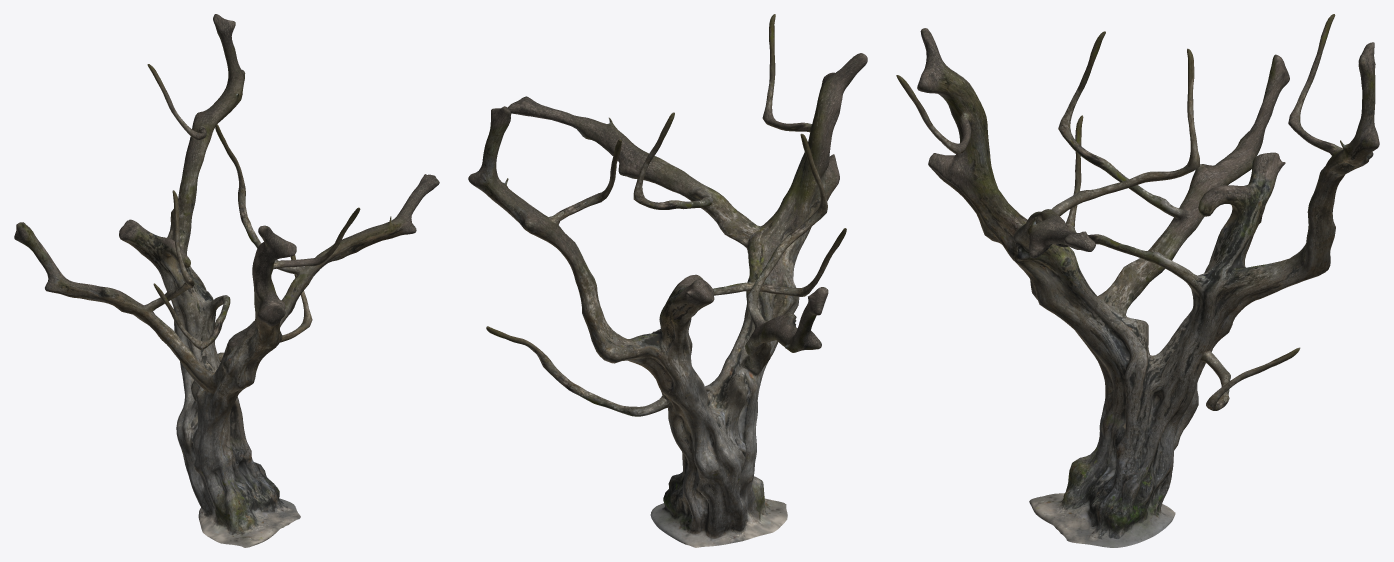
Rendered from island_tree_01_1k.fbx.
3 renders of one model, left to right at view 1: azimuth 30°, elevation 25°; view 2: azimuth 150°, elevation 25°; view 3: azimuth 270°, elevation 25°, orthographic. The views are drawn at different scales.
Visible parts, largest first — view 1: island_tree_01; view 2: island_tree_01; view 3: island_tree_01.
Part boxes in pixels (x1,y1,x2,y2): island_tree_01: (14,14,439,547); island_tree_01: (468,14,867,547); island_tree_01: (896,14,1379,547).
Size of the model in its own units: 315 by 358 by 299.
